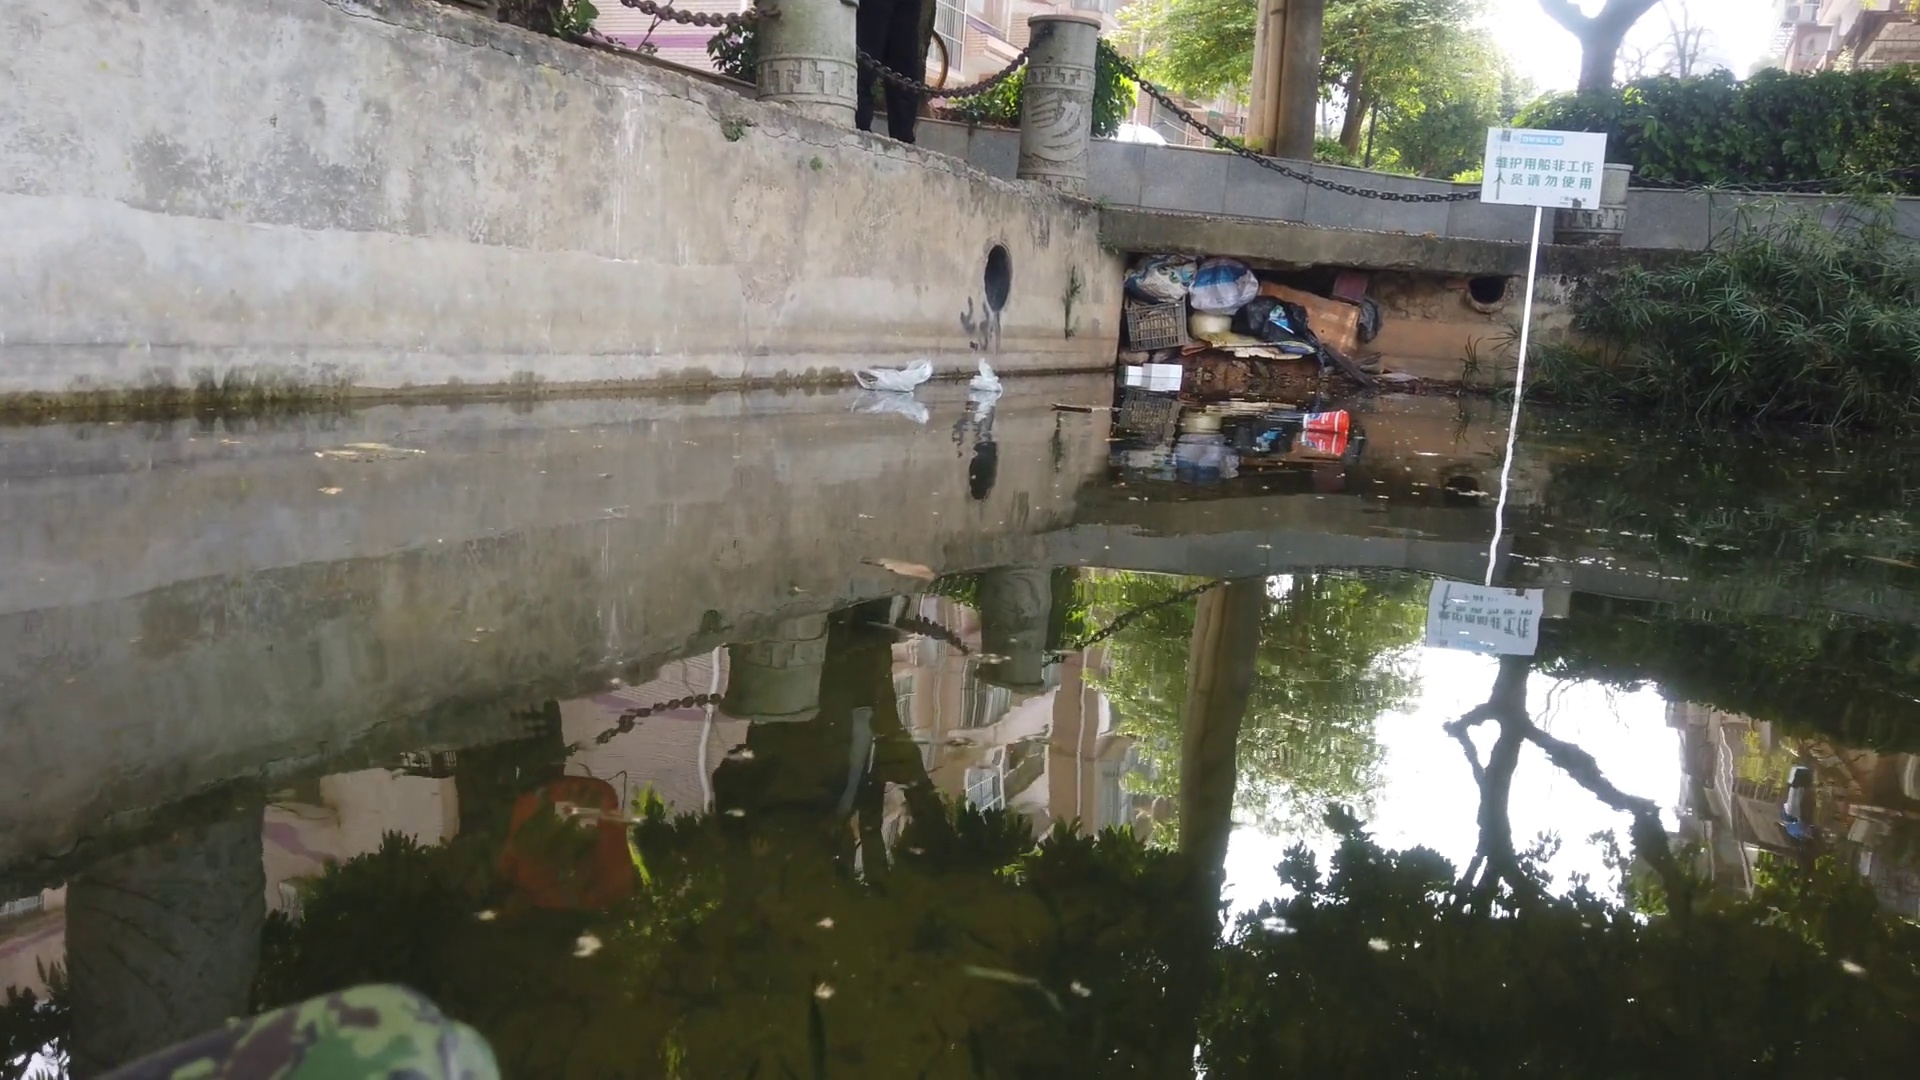bottle: (1303, 410, 1353, 430)
carton: (1145, 363, 1182, 378), (1124, 367, 1150, 378)
paper: (1048, 401, 1114, 415)
plastic: (851, 357, 936, 396), (963, 357, 1005, 392)
